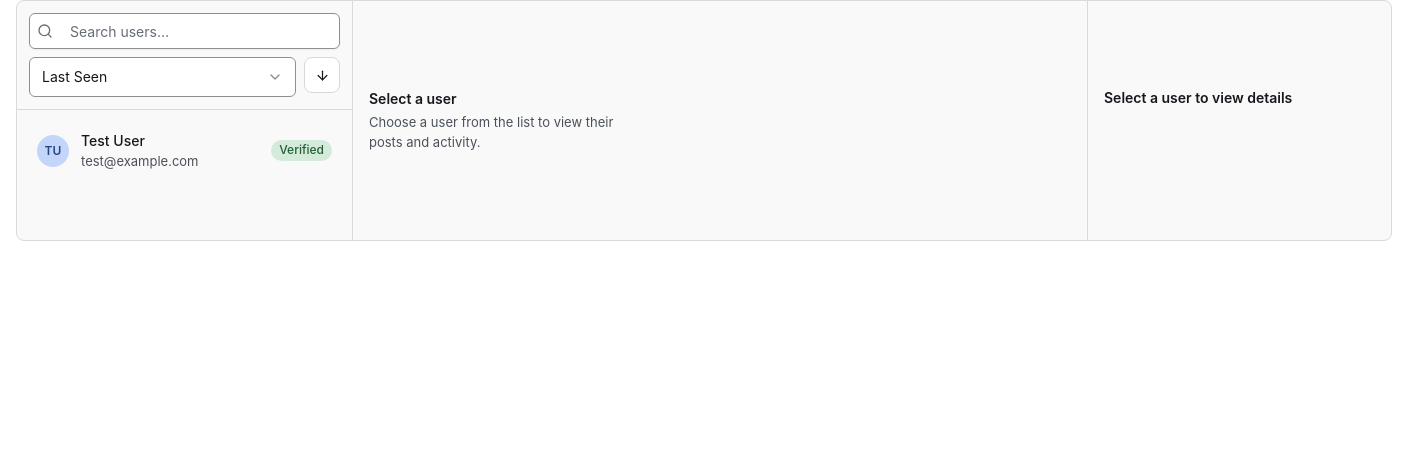
/admin/users stats panel › shows '-' and an error line with retry when the detail request fails
This screenshot has width=1409, height=458.
Click the text "Test User" at (113, 140), box x1=81 y1=132 x2=145 y2=149
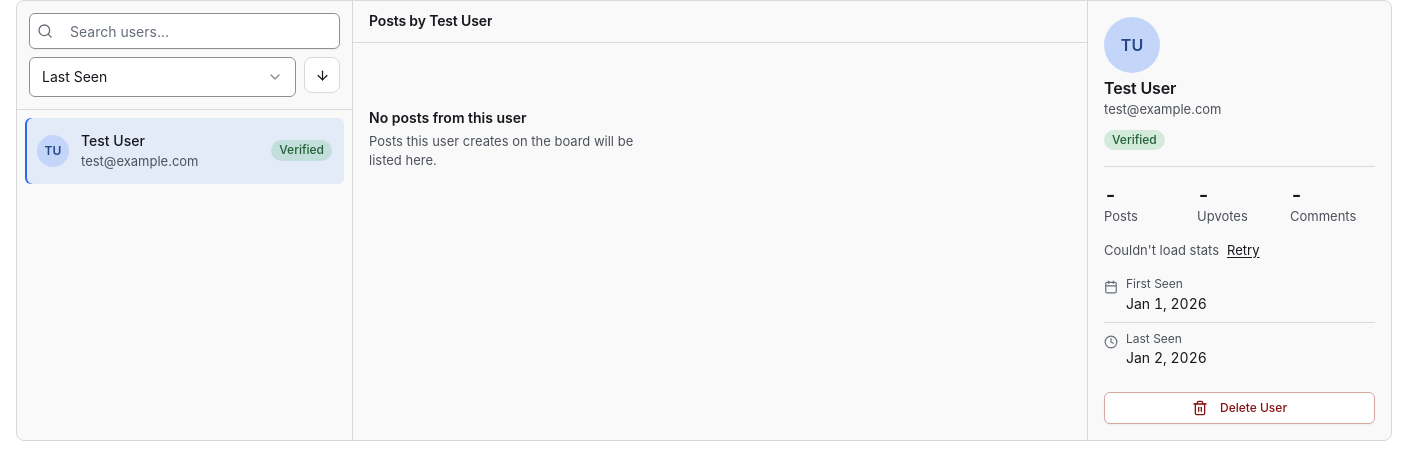
Expected: the heading "Posts by Test User" is shown, x1=369 y1=13 x2=492 y2=30
Expected: the text "Couldn't load stats" is shown, x1=1104 y1=241 x2=1219 y2=260
